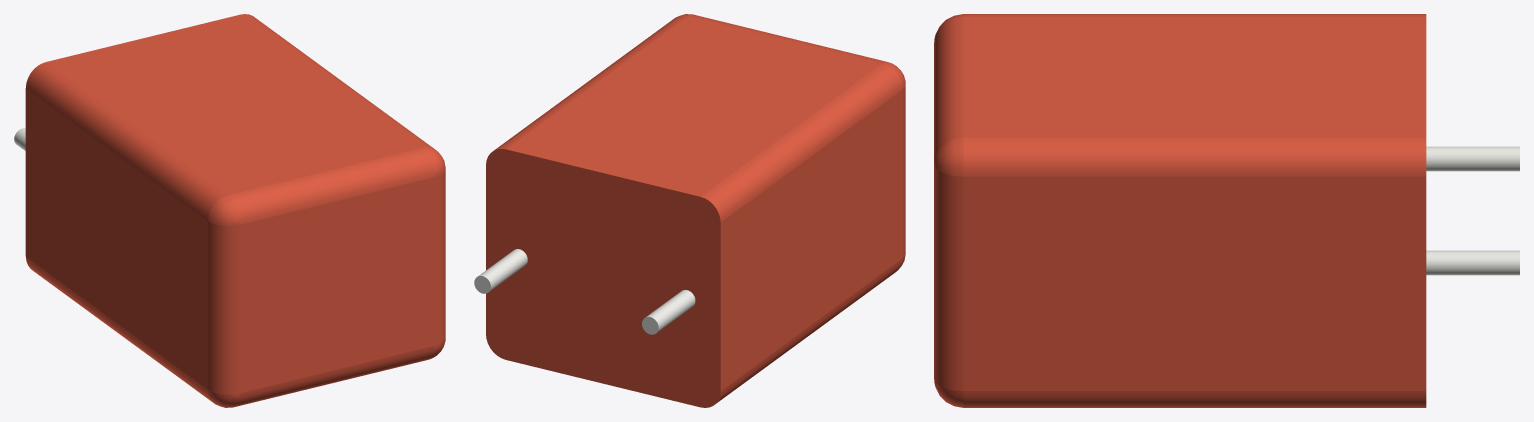
File: C_Rect_L7.0mm_W6.0mm_P5.00mm.glb
3 renders of one model, left to right at view 1: azimuth 30°, elevation 25°; view 2: azimuth 150°, elevation 25°; view 3: azimuth 270°, elevation 25°, orthographic. The views are drawn at different scales.
Visible parts, largest first — view 1: Shape_IndexedFaceSet.009, Shape_IndexedFaceSet.008, Shape_IndexedFaceSet, Shape_IndexedFaceSet.004, Shape_IndexedFaceSet.016, Shape_IndexedFaceSet.002, Shape_IndexedFaceSet.015, Shape_IndexedFaceSet.017, Shape_IndexedFaceSet.001, Shape_IndexedFaceSet.011, Shape_IndexedFaceSet.007; view 2: Shape_IndexedFaceSet.003, Shape_IndexedFaceSet.009, Shape_IndexedFaceSet, Shape_IndexedFaceSet.004, Shape_IndexedFaceSet.001, Shape_IndexedFaceSet.011, Shape_IndexedFaceSet.013, Shape_IndexedFaceSet.014, Shape_IndexedFaceSet.016, Shape_IndexedFaceSet.002; view 3: Shape_IndexedFaceSet.012, Shape_IndexedFaceSet.009, Shape_IndexedFaceSet.011, Shape_IndexedFaceSet.010, Shape_IndexedFaceSet.017, Shape_IndexedFaceSet.016, Shape_IndexedFaceSet.013, Shape_IndexedFaceSet.014, Shape_IndexedFaceSet.004, Shape_IndexedFaceSet.019.
Part boxes in pixels (x1,y1,x2,y2): Shape_IndexedFaceSet.009: (46,14,422,195); Shape_IndexedFaceSet.008: (239,177,434,392); Shape_IndexedFaceSet: (25,88,207,389); Shape_IndexedFaceSet.004: (26,62,227,220); Shape_IndexedFaceSet.016: (228,148,433,224); Shape_IndexedFaceSet.002: (208,221,239,394); Shape_IndexedFaceSet.015: (235,346,433,406); Shape_IndexedFaceSet.017: (434,170,445,345); Shape_IndexedFaceSet.001: (26,257,213,402); Shape_IndexedFaceSet.011: (241,14,433,148); Shape_IndexedFaceSet.007: (208,195,239,225); Shape_IndexedFaceSet.003: (486,149,720,407); Shape_IndexedFaceSet.009: (506,16,882,196); Shape_IndexedFaceSet: (720,90,902,390); Shape_IndexedFaceSet.004: (701,63,902,222); Shape_IndexedFaceSet.001: (716,258,902,403); Shape_IndexedFaceSet.011: (494,15,687,150); Shape_IndexedFaceSet.013: (646,290,695,332); Shape_IndexedFaceSet.014: (478,249,527,291); Shape_IndexedFaceSet.016: (688,14,886,63); Shape_IndexedFaceSet.002: (902,86,905,257); Shape_IndexedFaceSet.012: (963,176,1426,390); Shape_IndexedFaceSet.009: (963,17,1426,137); Shape_IndexedFaceSet.011: (963,137,1426,176); Shape_IndexedFaceSet.010: (963,391,1426,407); Shape_IndexedFaceSet.017: (934,165,963,390); Shape_IndexedFaceSet.016: (934,17,963,162); Shape_IndexedFaceSet.013: (1426,146,1519,171); Shape_IndexedFaceSet.014: (1426,250,1519,275); Shape_IndexedFaceSet.004: (963,14,1426,16); Shape_IndexedFaceSet.019: (934,137,963,176).
Size of the model in its own units: 2.76 by 2.36 by 4.69.
